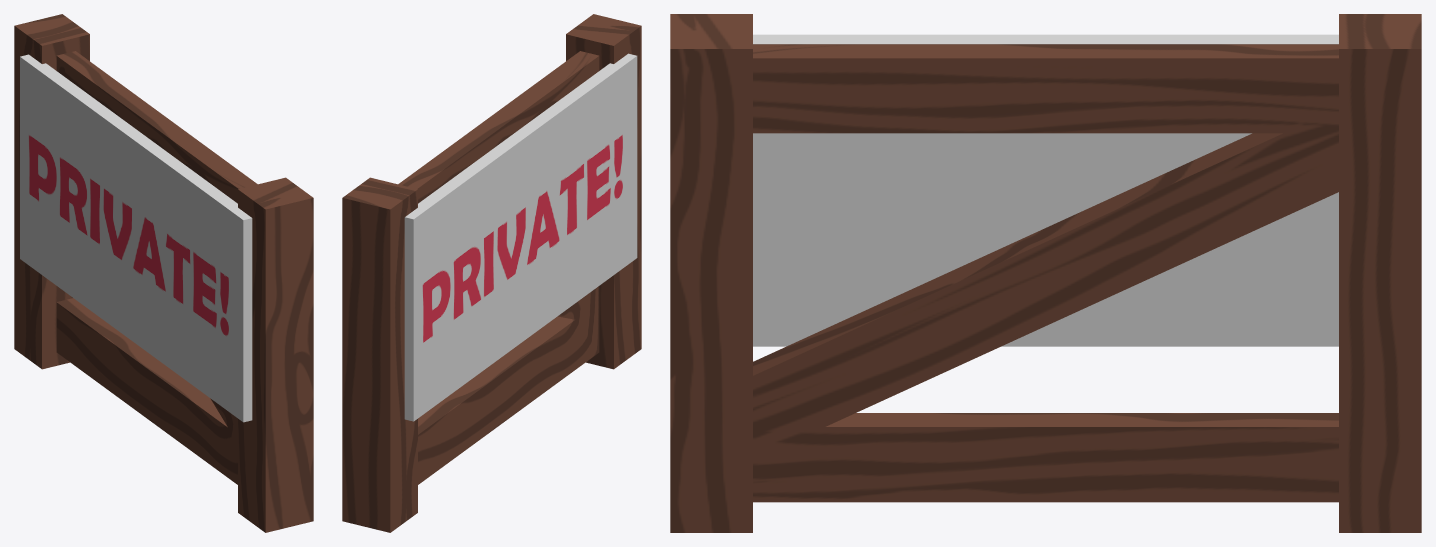
The model's file is Gate.fbx.
The picture shows the model from 3 angles, left to right: view 1: azimuth 30°, elevation 25°; view 2: azimuth 150°, elevation 25°; view 3: azimuth 270°, elevation 25°; orthographic projection. The views are drawn at different scales.
Parts seen in each view (by area): view 1: pCube54; view 2: pCube54; view 3: pCube54.
Part boxes in pixels (box(x1,y1,x2,y2)): pCube54: box(14, 14, 313, 532); pCube54: box(342, 14, 641, 532); pCube54: box(670, 14, 1421, 532).
Size of the model in its own units: 0.5891 by 3.2 by 4.5.
